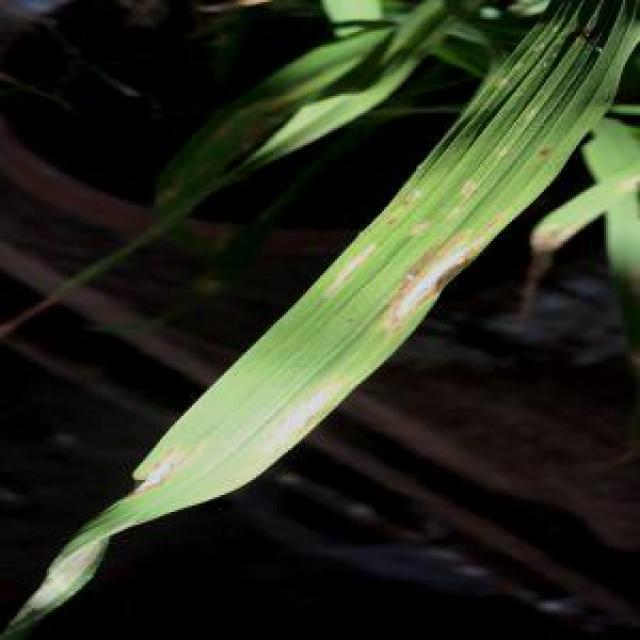Rice_Blast: (373, 211, 493, 324)
